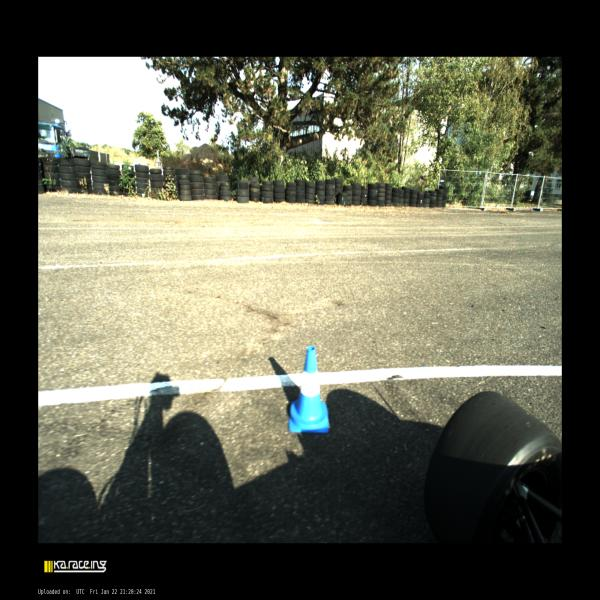blue_cone: (289, 346, 329, 433)
